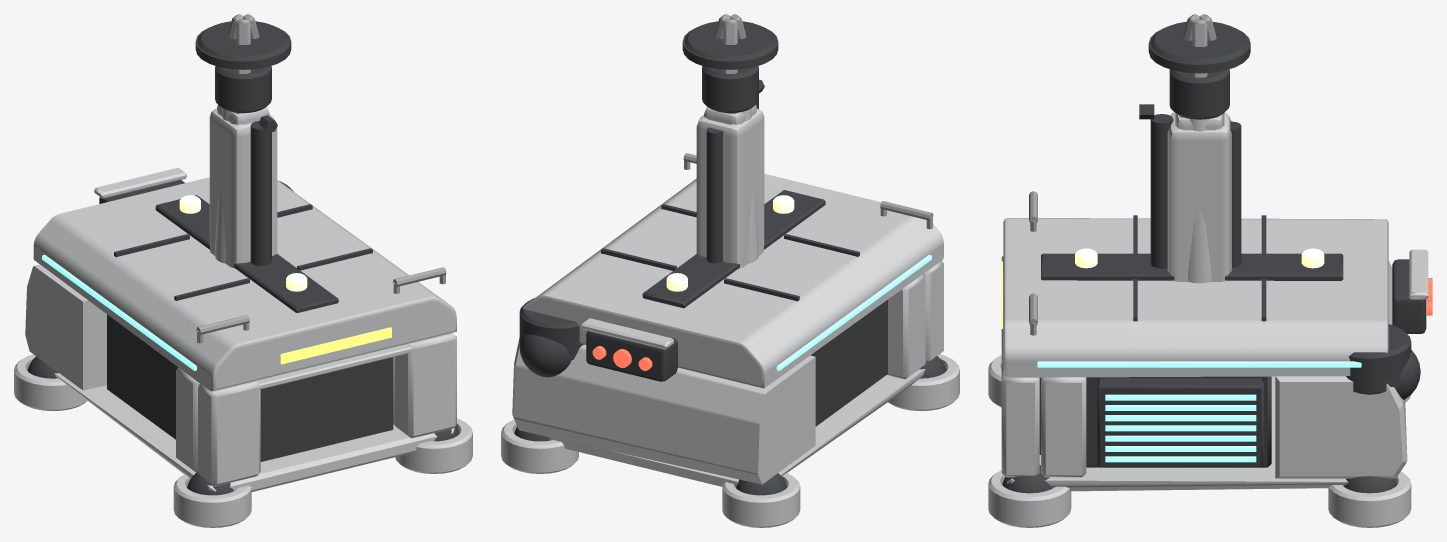
The model's file is heavy.glb.
The picture shows the model from 3 angles, left to right: view 1: azimuth 30°, elevation 25°; view 2: azimuth 150°, elevation 25°; view 3: azimuth 270°, elevation 25°; orthographic projection. The views are drawn at different scales.
Parts seen in each view (by area): view 1: hull, thigh, shin, arm_fore, eye; view 2: hull, thigh, eye, shin, arm_fore, arm_upper; view 3: hull, vent, thigh, shin, arm_fore, eye, arm_upper.
Boxes of the visible parts, bbox=[...] form: hull: bbox=[14, 177, 472, 527]; thigh: bbox=[209, 108, 277, 268]; shin: bbox=[195, 21, 291, 263]; arm_fore: bbox=[215, 14, 271, 114]; eye: bbox=[94, 167, 186, 203]; hull: bbox=[501, 153, 959, 527]; thigh: bbox=[696, 79, 764, 268]; eye: bbox=[581, 318, 677, 381]; shin: bbox=[682, 21, 778, 263]; arm_fore: bbox=[702, 14, 758, 114]; arm_upper: bbox=[704, 105, 756, 263]; hull: bbox=[988, 191, 1420, 527]; vent: bbox=[1097, 378, 1263, 467]; thigh: bbox=[1139, 104, 1231, 281]; shin: bbox=[1148, 21, 1250, 283]; arm_fore: bbox=[1169, 14, 1229, 119]; eye: bbox=[1392, 249, 1432, 333]; arm_upper: bbox=[1175, 113, 1241, 267].
Size of what is drawn, in the model's own units: 0.94 by 1.29 by 1.18.
